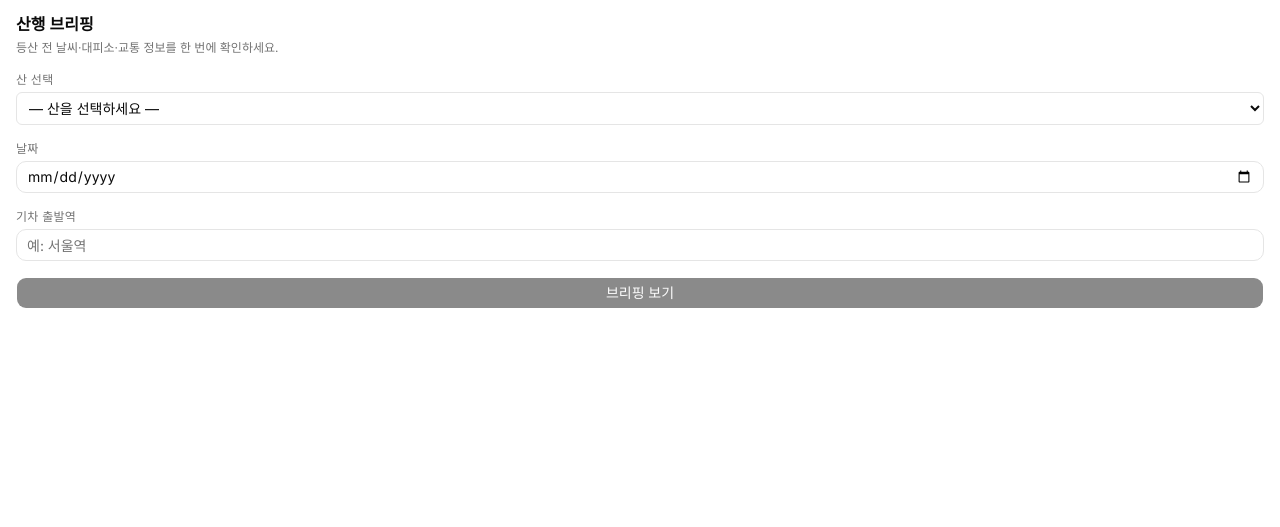
Test: SearchForm › 역순 전환 › 역순 상태에서 다른 등산로 선택 시 역순이 해제된다
The width and height of the screenshot is (1280, 527).
Select "지리산" in the dropdown with test id "mountain-select" at (640, 108), box x1=16 y1=92 x2=1264 y2=125
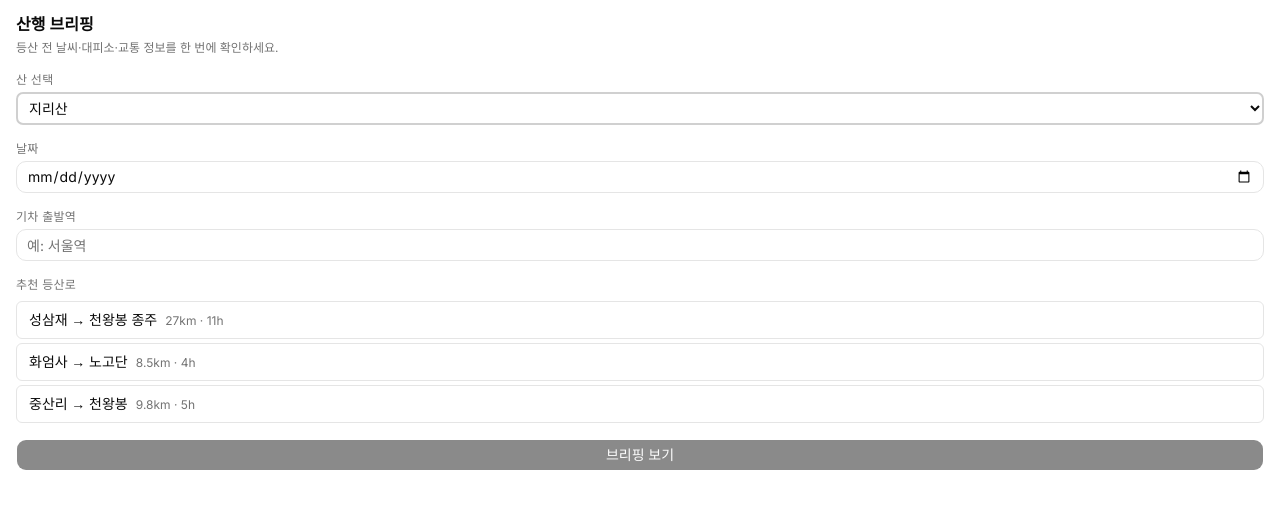
Click the text "성삼재 → 천왕봉 종주" at (93, 320), box x1=29 y1=311 x2=157 y2=328
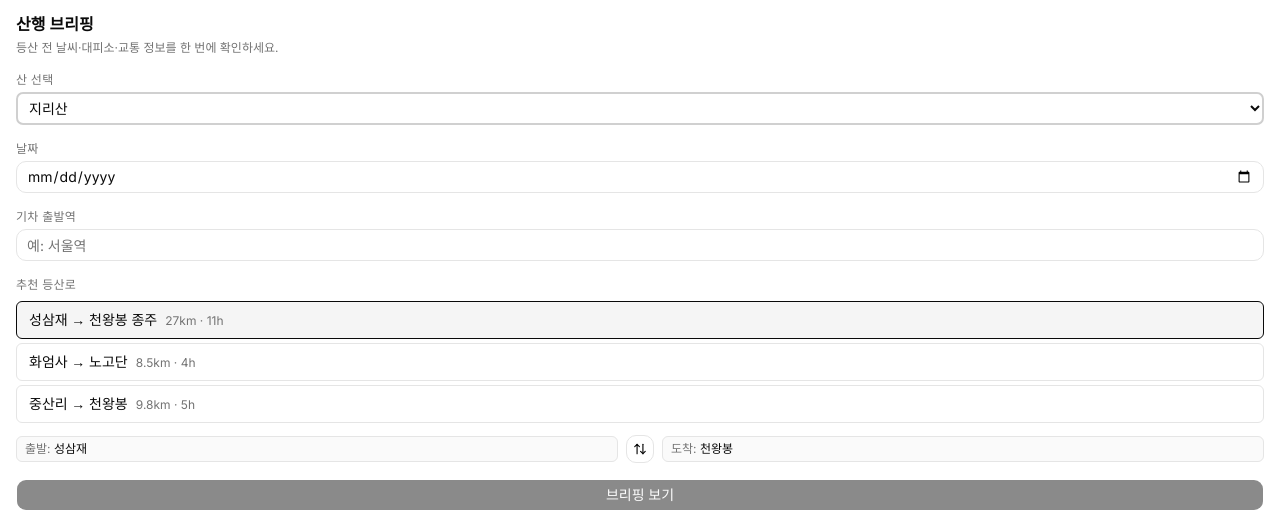
Click the button with test id "reverse-button" at (640, 449), box x1=626 y1=435 x2=654 y2=463
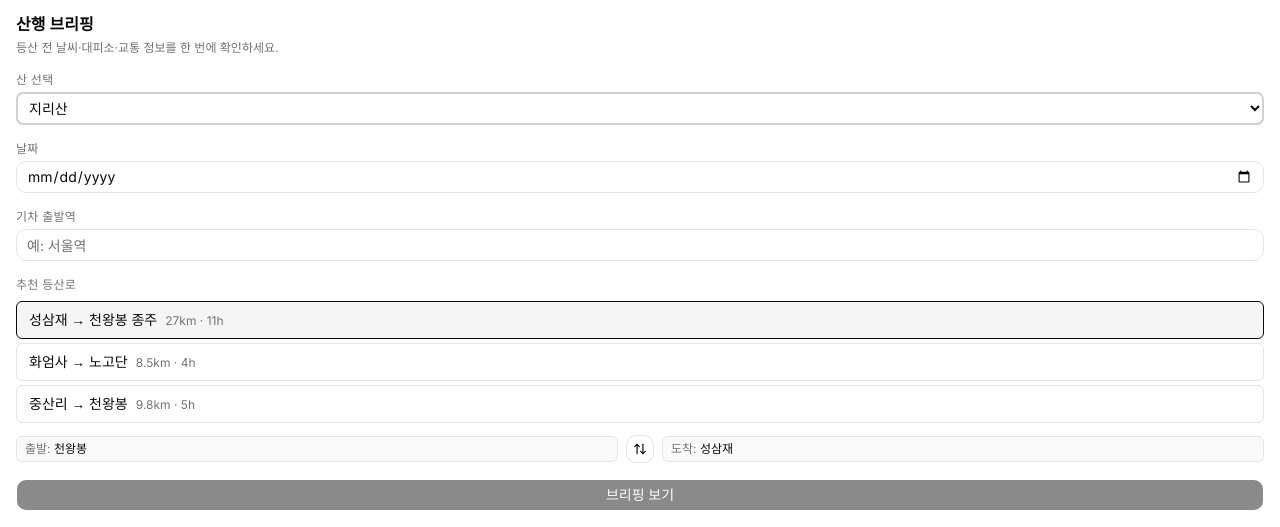
Click the text "화엄사 → 노고단" at (78, 362), box x1=29 y1=353 x2=128 y2=370
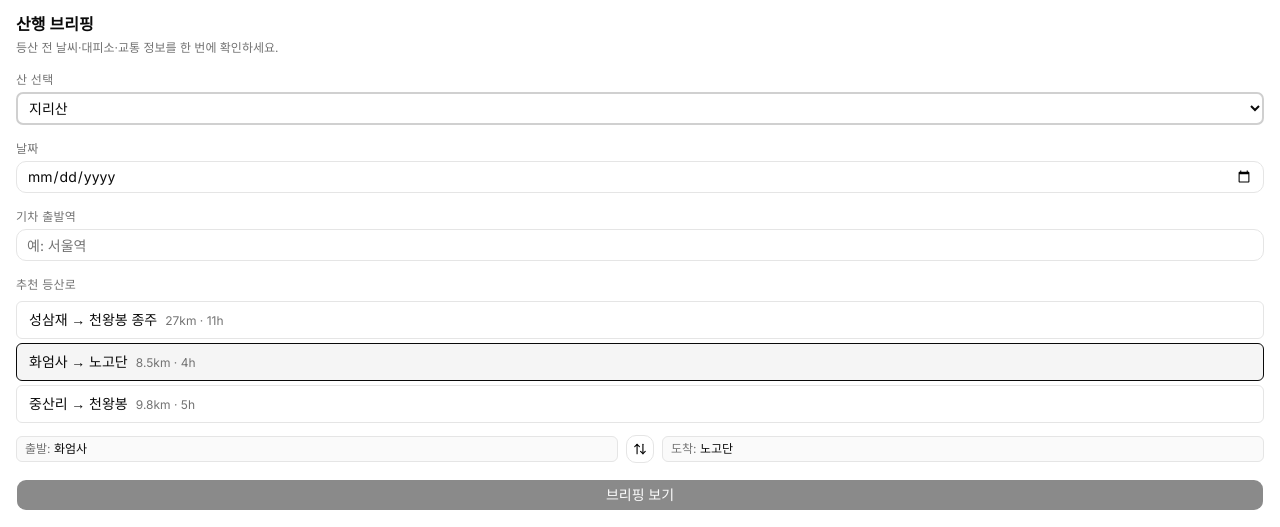
Expected: the text with test id "start-point" reads "화엄사", x1=54 y1=441 x2=87 y2=456
Expected: the text with test id "end-point" reads "노고단", x1=700 y1=441 x2=733 y2=456
